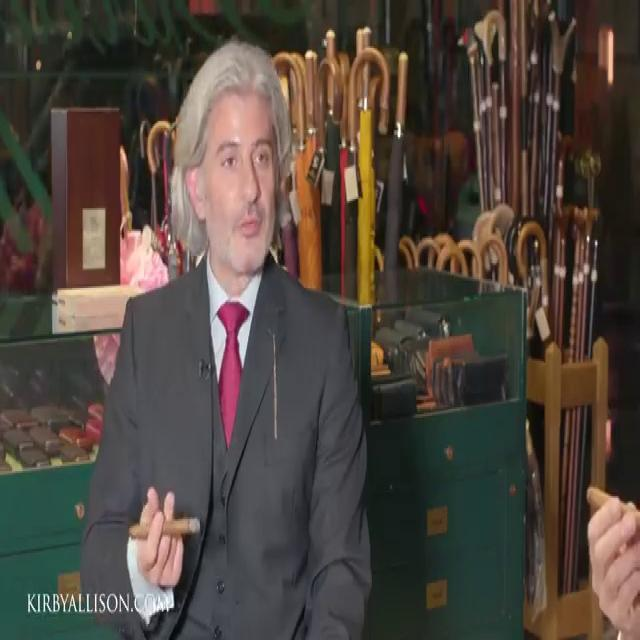Smooking: (121, 509, 204, 547)
